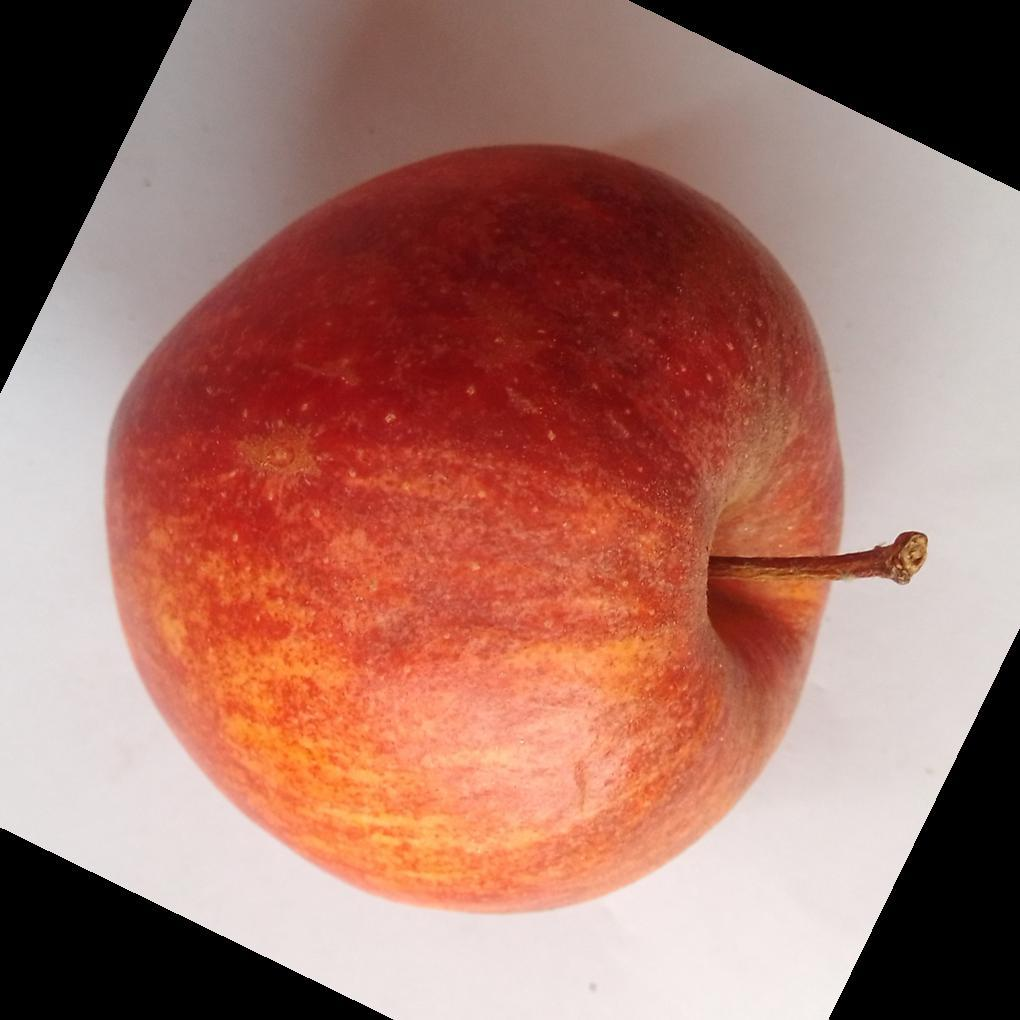FreshGuava: (100, 144, 927, 920)
